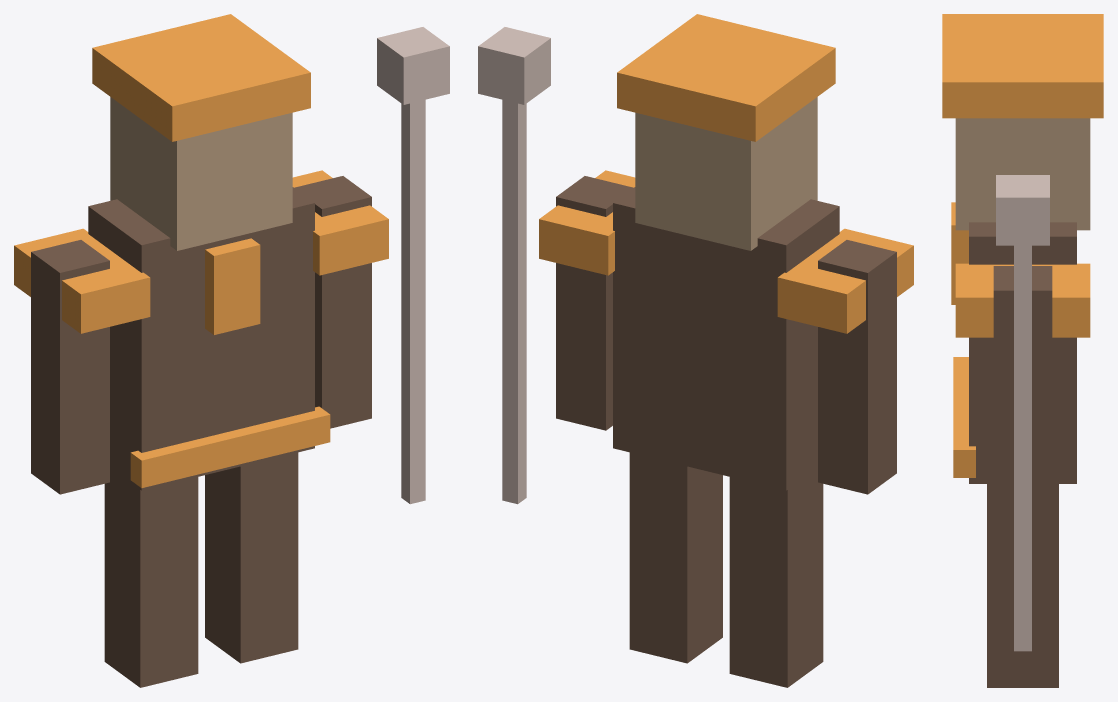
File: 10_pax_emberkin_responder_from_watcher.glb
The picture shows the model from 3 angles, left to right: view 1: azimuth 30°, elevation 25°; view 2: azimuth 150°, elevation 25°; view 3: azimuth 270°, elevation 25°; orthographic projection.
Visible parts, largest first — view 1: Pax Emberkin, Responder from Watcher; view 2: Pax Emberkin, Responder from Watcher; view 3: Pax Emberkin, Responder from Watcher.
Part boxes in pixels (<box>): Pax Emberkin, Responder from Watcher: <box>14,14,449,687</box>; Pax Emberkin, Responder from Watcher: <box>478,14,913,687</box>; Pax Emberkin, Responder from Watcher: <box>942,14,1103,687</box>.
Size of the model in its own units: 1.05 by 1.53 by 0.3734.
